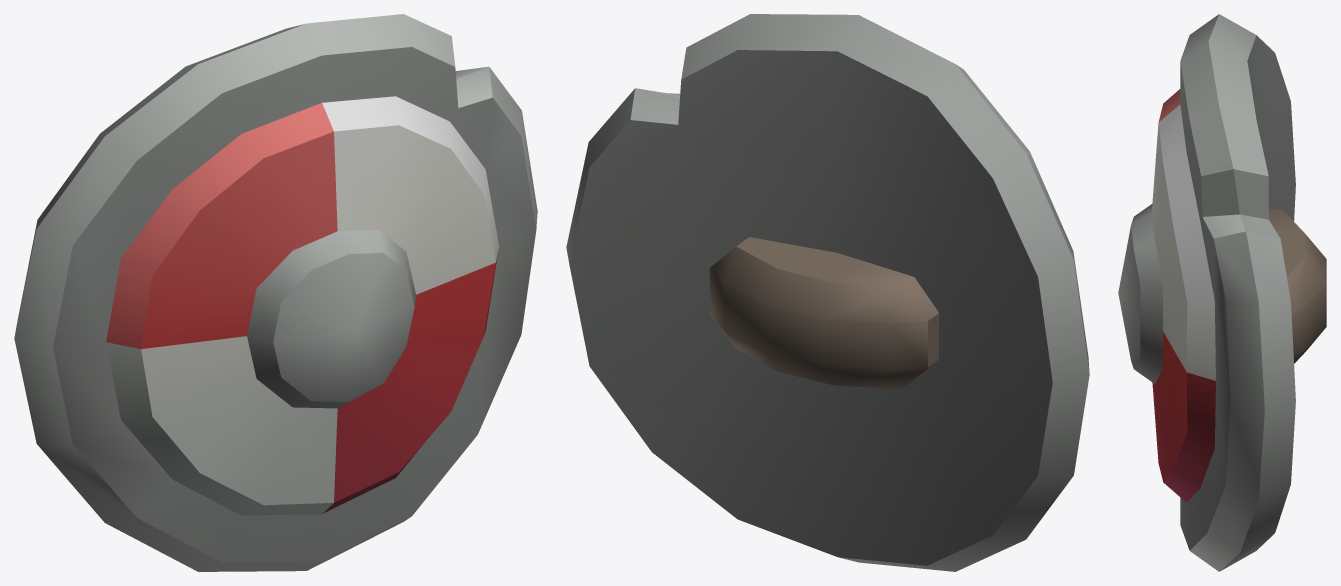
The model's file is shield_round_color.glb.
3 views of the same model, side by side, from view 1: azimuth 30°, elevation 25°; view 2: azimuth 150°, elevation 25°; view 3: azimuth 270°, elevation 25° (orthographic). The views are drawn at different scales.
Visible parts, largest first — view 1: shield_round_color; view 2: shield_round_color; view 3: shield_round_color.
Boxes of the visible parts, <box> form: shield_round_color: <box>14,14,537,571</box>; shield_round_color: <box>566,14,1089,571</box>; shield_round_color: <box>1118,14,1326,571</box>.
Size of the model in its own units: 0.65 by 0.65 by 0.2445.
Materials: 1 (1 with a texture image).
